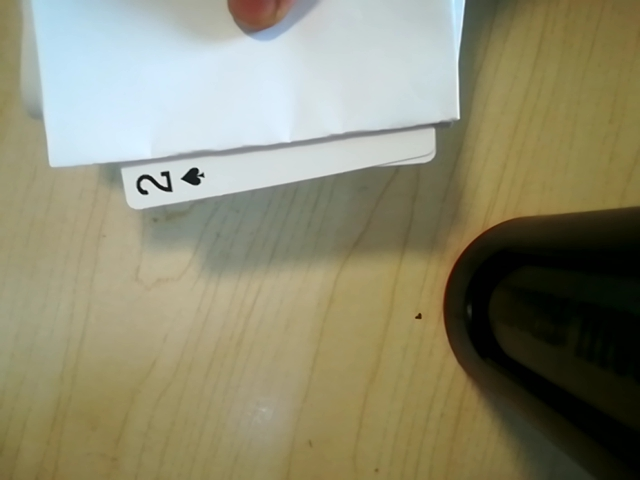ht 2: (125, 153, 211, 212)
